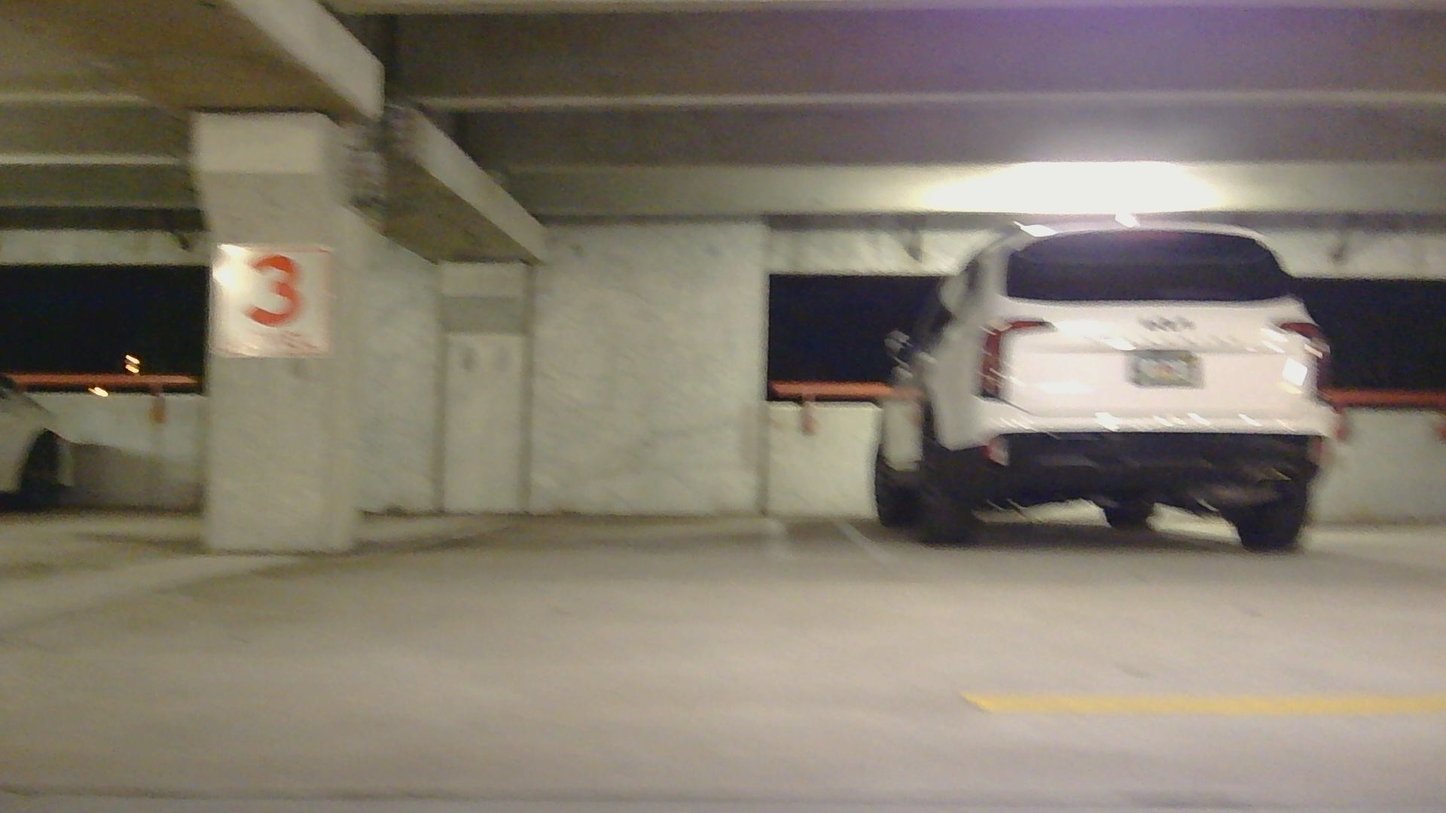empty_spot: (370, 419, 777, 571)
occupied_spot: (873, 224, 1327, 551)
